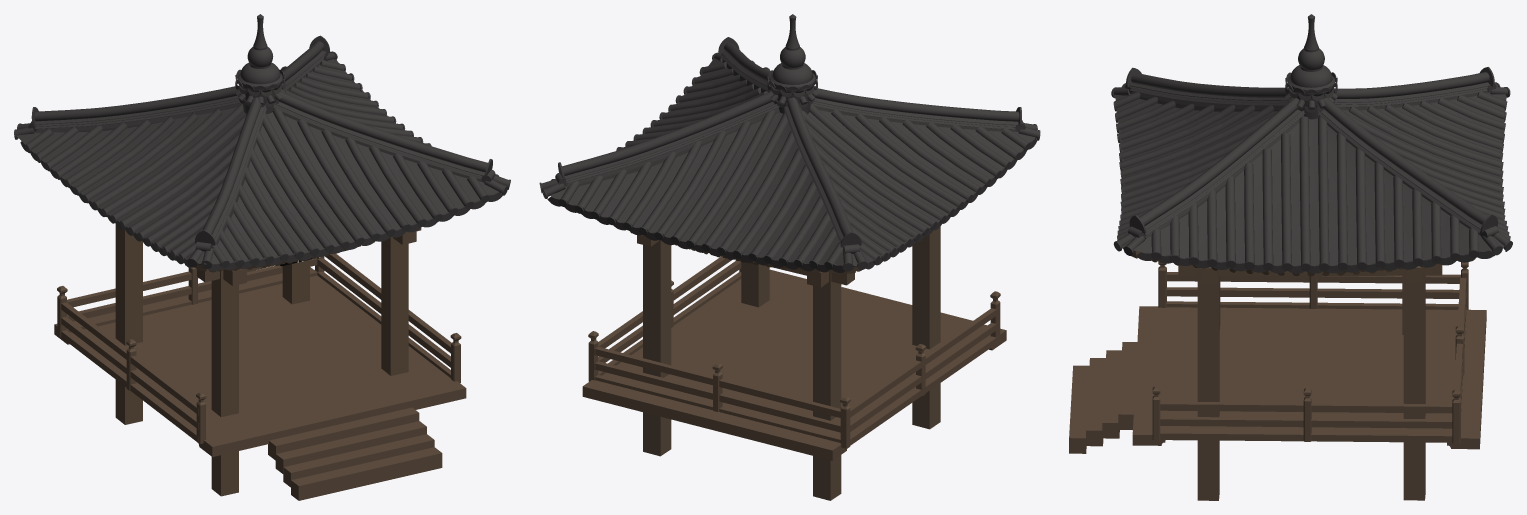
Rendered from 정자모델링.fbx.
The picture shows the model from 3 angles, left to right: view 1: azimuth 30°, elevation 25°; view 2: azimuth 150°, elevation 25°; view 3: azimuth 270°, elevation 25°; orthographic projection. The views are drawn at different scales.
Parts seen in each view (by area): view 1: Section131, Object12423, Line14971, Line14938; view 2: Section131, Object12423, Line14938; view 3: Section131, Object12423, Line14971, Line14938.
Part boxes in pixels (x1,y1,x2,y2): Section131: (16,14,508,264); Object12423: (54,223,466,496); Line14971: (268,407,442,500); Line14938: (14,35,510,271); Section131: (541,14,1038,266); Object12423: (566,209,1006,500); Line14938: (539,37,1040,272); Section131: (1113,14,1509,265); Object12423: (1131,250,1494,500); Line14971: (1069,342,1137,453); Line14938: (1111,67,1512,273).
Bounding box in the file's own units: 690 × 853 × 776.
